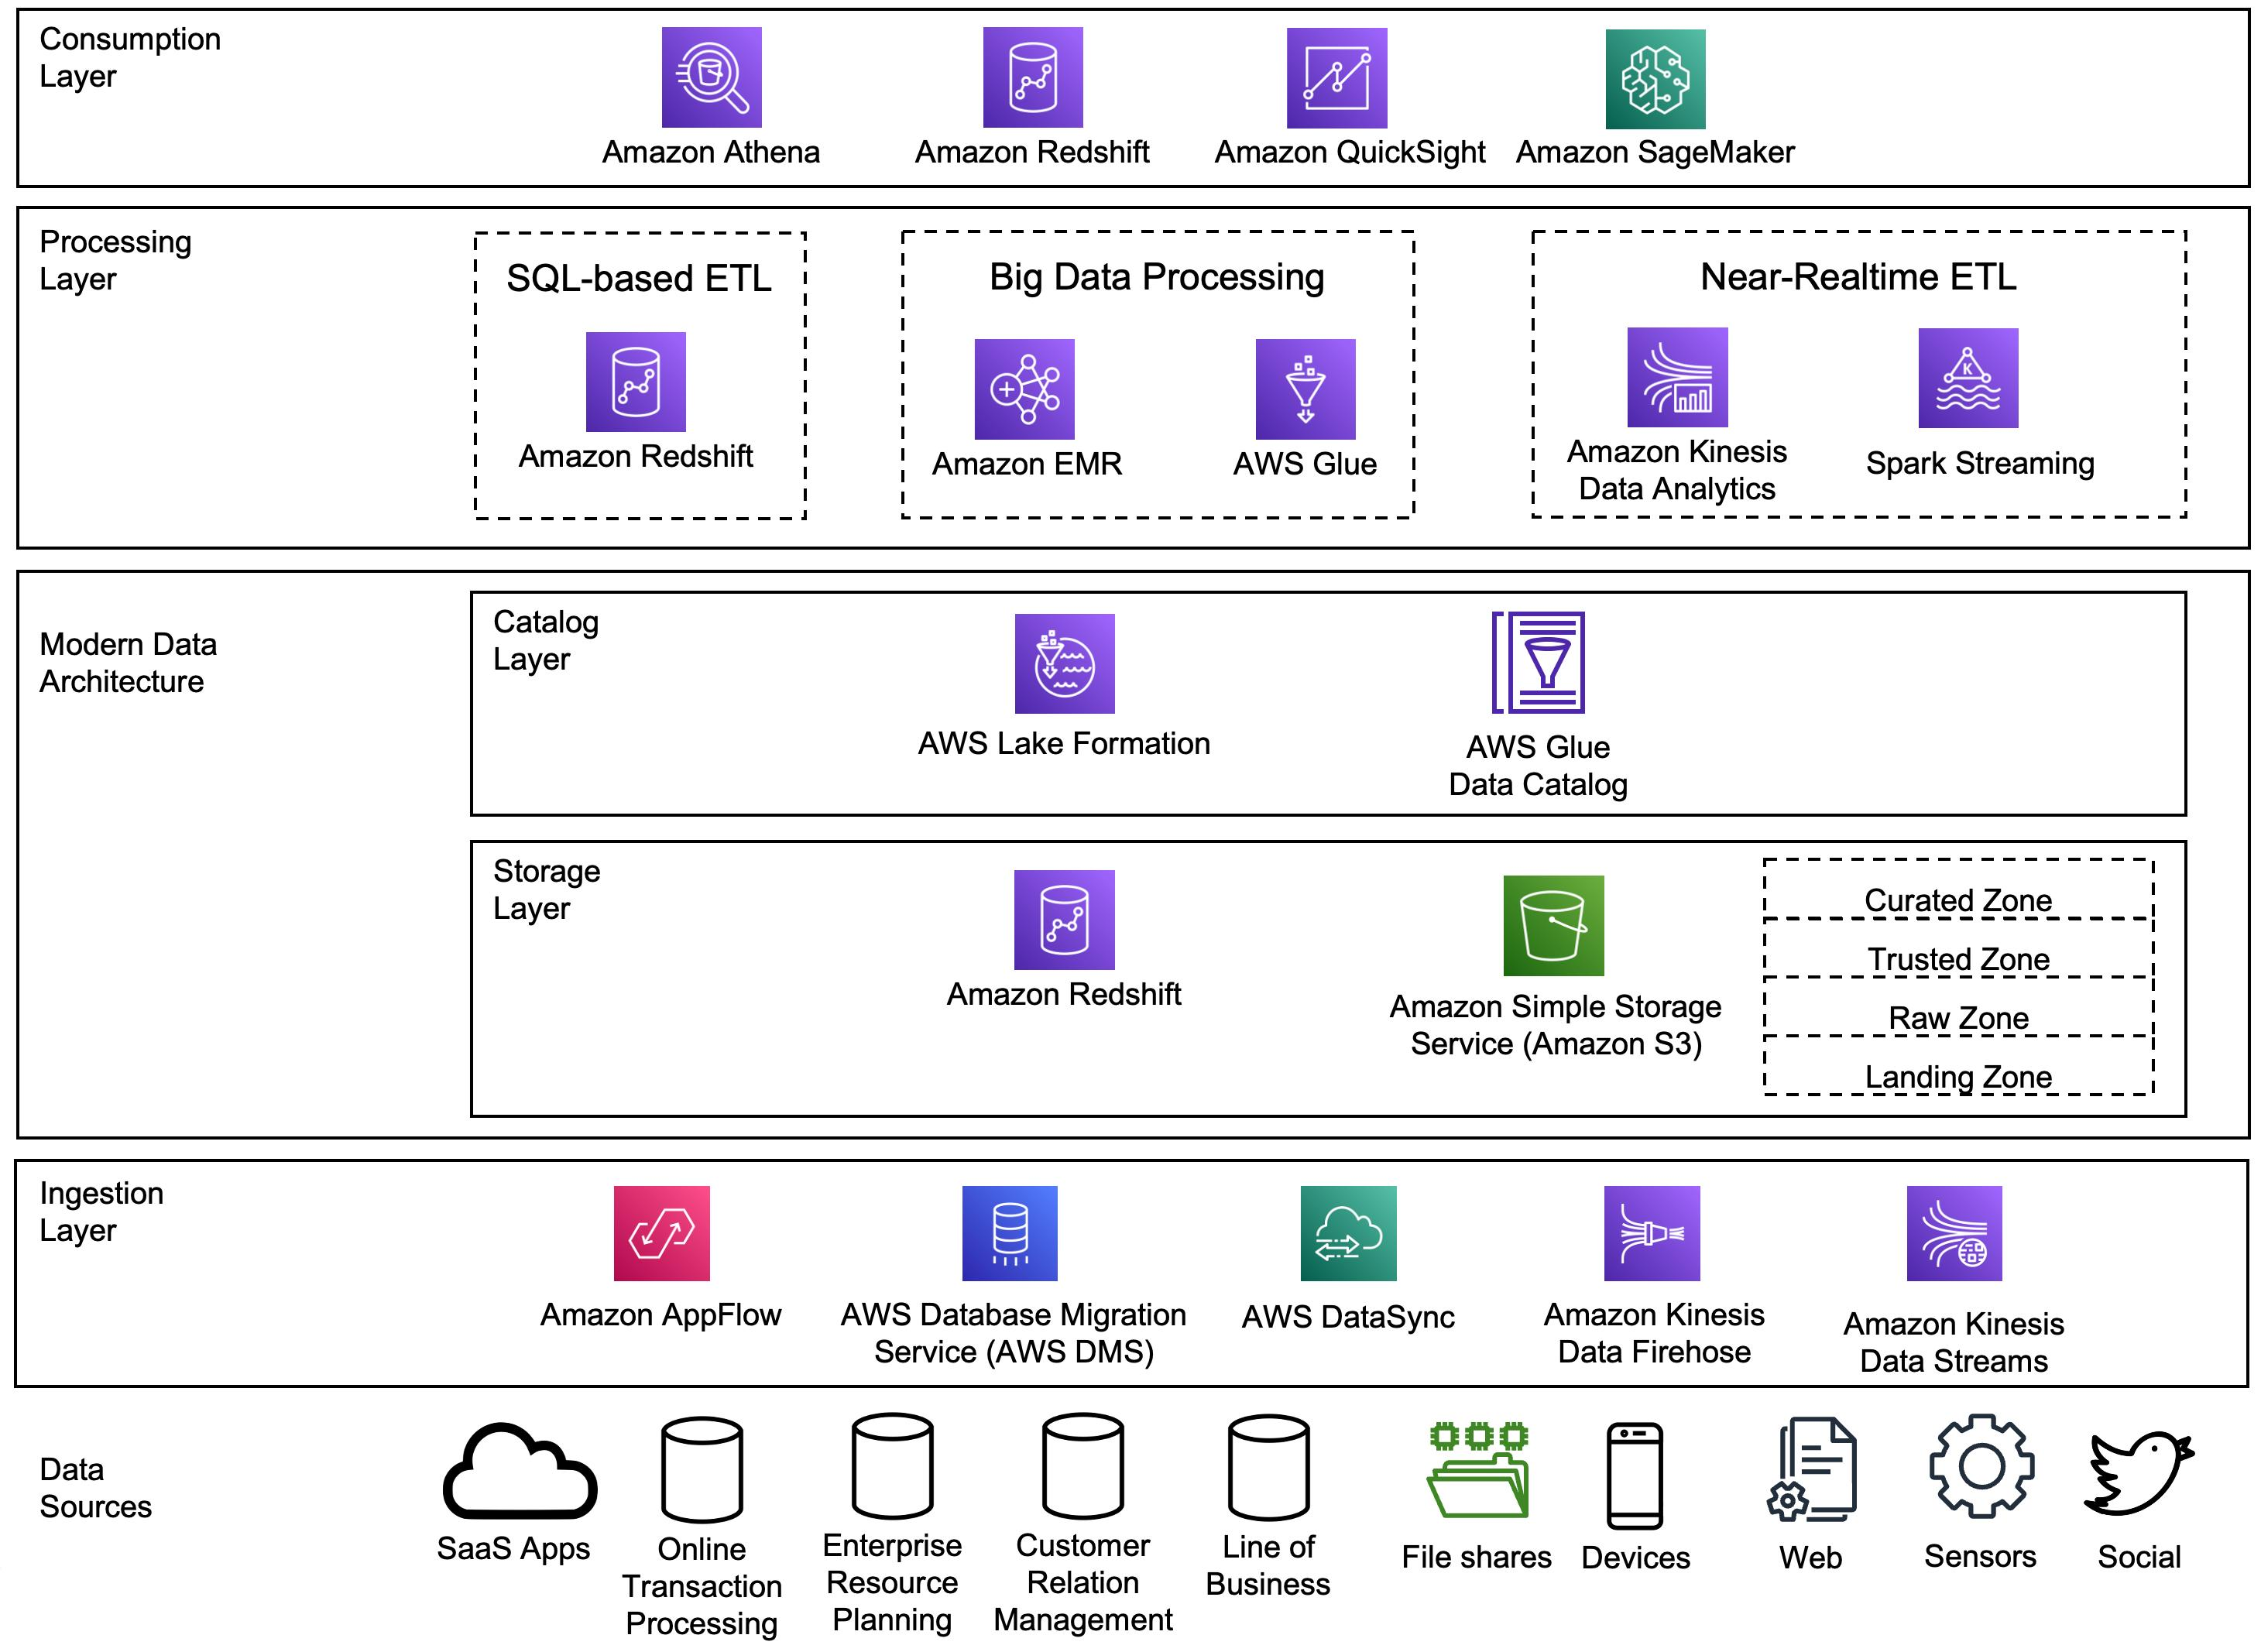Backend: (987, 341, 1076, 441), (1499, 611, 1582, 713), (1264, 346, 1348, 439)
Configuration: (1027, 621, 1104, 715)
Database: (1027, 878, 1115, 973), (671, 37, 757, 125), (597, 339, 686, 423), (992, 33, 1074, 125)
Frontend: (1301, 33, 1389, 119)
Macine Learning: (1610, 37, 1703, 125)
Messaging: (1634, 335, 1724, 434), (1931, 330, 2021, 421), (1917, 1196, 1999, 1280)
Storage: (1506, 883, 1599, 973)
Workflow Engine: (616, 1190, 704, 1278), (1608, 1196, 1698, 1278), (971, 1192, 1059, 1275), (1311, 1196, 1389, 1285)
